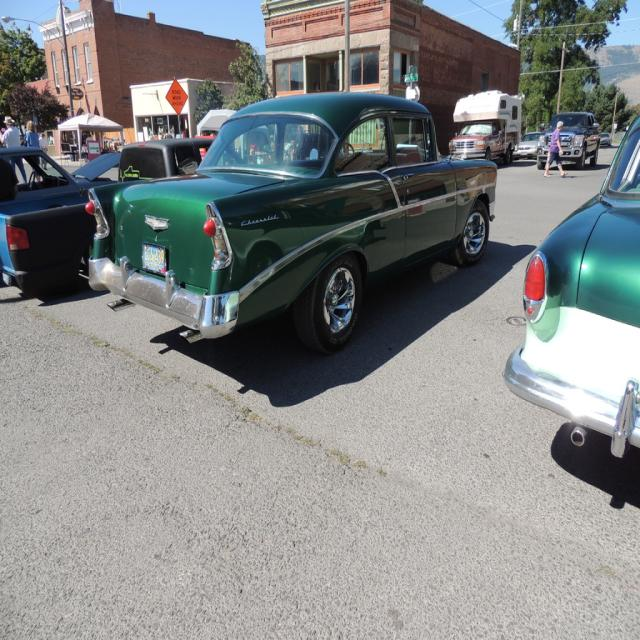car: (86, 86, 497, 357)
